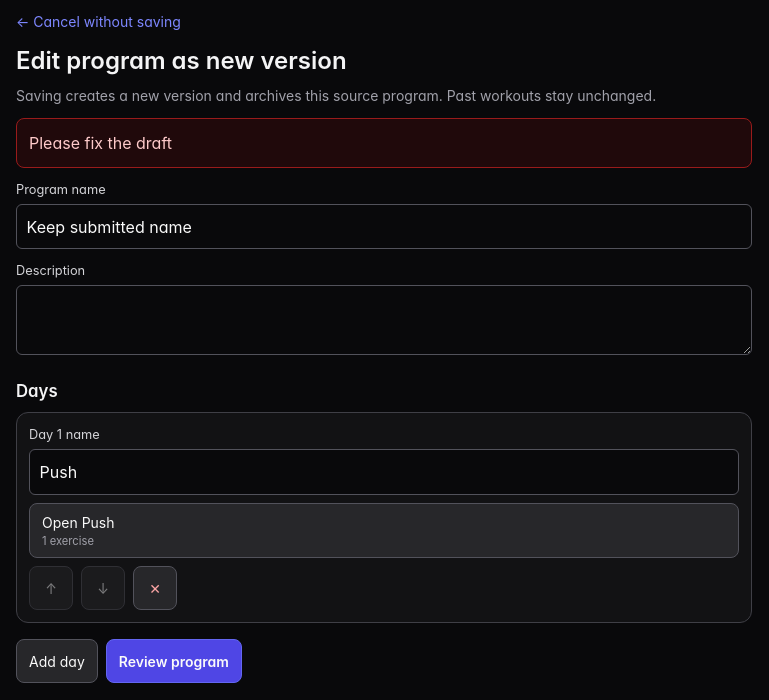
Test: preserves submitted values and labels duplicate-on-edit explicitly
expect the message reads "Please fix the draft": met, box [29,133,176,153]
expect the field labelled "Program name" holds "Keep submitted name": met, box [16,204,752,249]
What coordinates should you click on to do the following:
click the button "Review program"
I would click on:
 (174, 661)
Its box is [106,639,242,683].
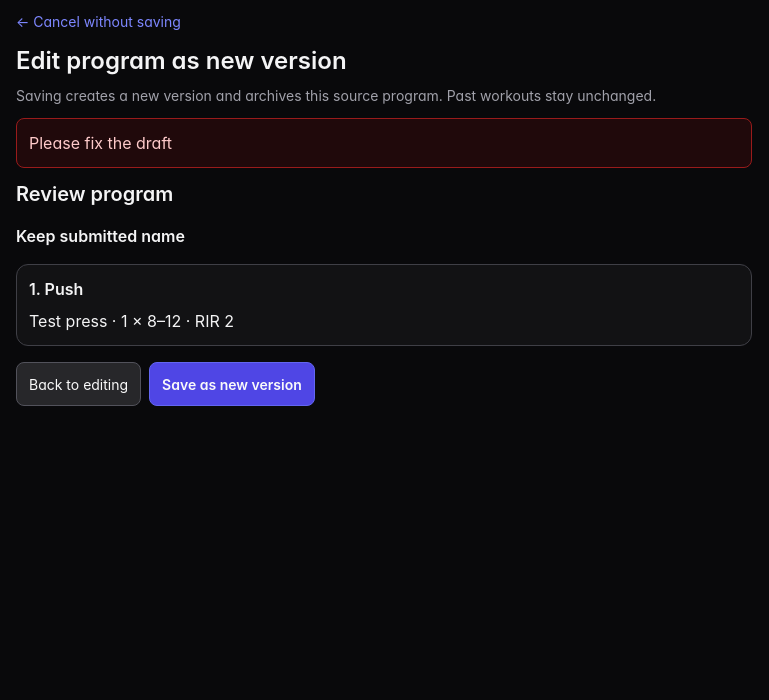
expect the text "Saving creates a new version and archives this source program. Past workouts stay unchanged." is shown: met, box [16,87,656,104]
expect the button "Save as new version" is shown: met, box [149,362,315,406]
